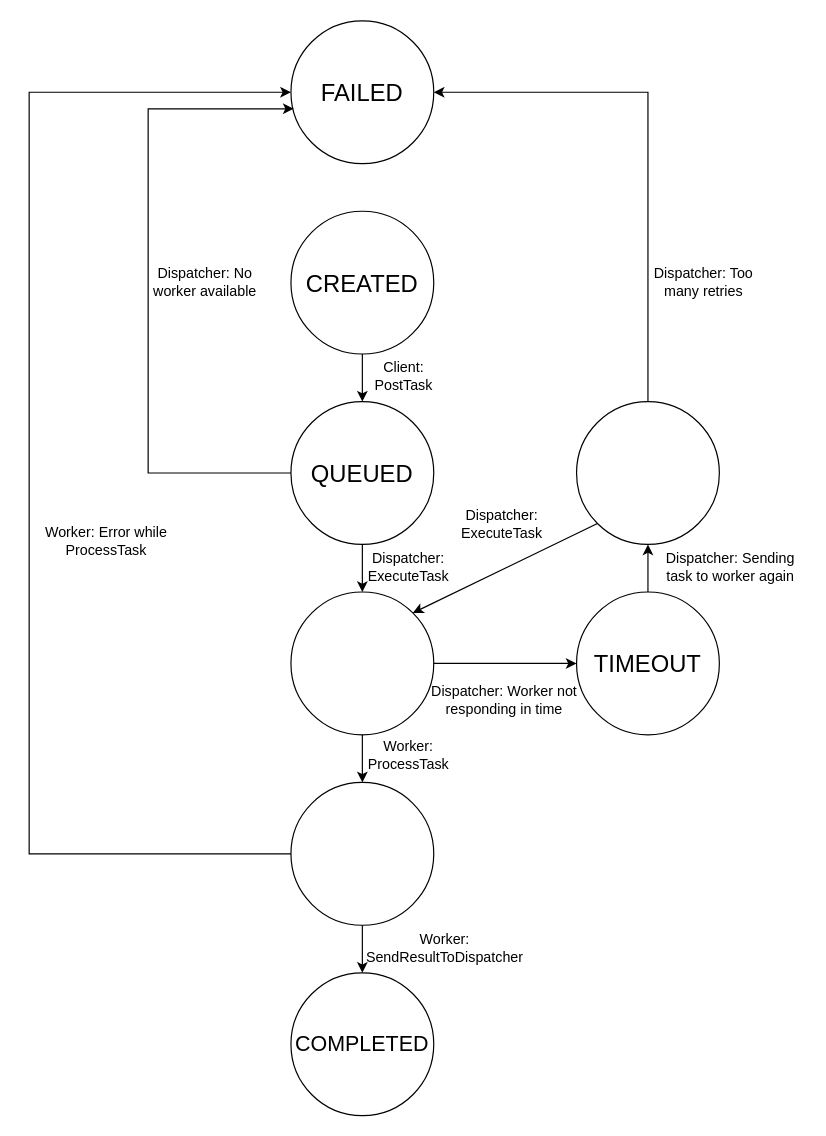
The diagram is 826 pixels wide and 1136 high, and some of its shapes have lost their labels. The box of each missing label's shape, as (x1, y1, x2, y2) in pixels:
DISPATCHED: (290, 591, 434, 735)
PROCESSING: (290, 781, 434, 925)
RETRYING: (575, 400, 719, 544)
